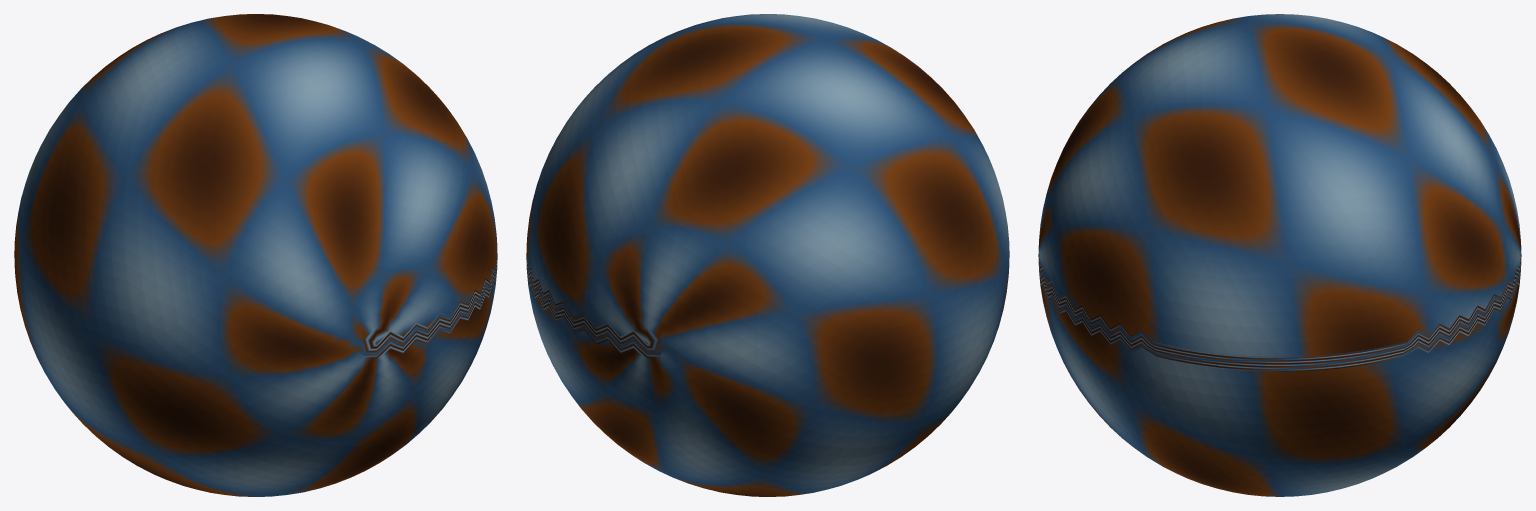
Rendered from sphere-cool-steel-c2.glb.
3 renders of one model, left to right at view 1: azimuth 30°, elevation 25°; view 2: azimuth 150°, elevation 25°; view 3: azimuth 270°, elevation 25°, orthographic.
Parts seen in each view (by area): view 1: world; view 2: world; view 3: world.
Boxes of the visible parts, left/top/right/bottom form: world: left=14, top=14, right=497, bottom=496; world: left=526, top=14, right=1009, bottom=496; world: left=1038, top=14, right=1521, bottom=496.
Size of the model in its own units: 1.2 by 1.2 by 1.2.
1 material, 1 textured.
